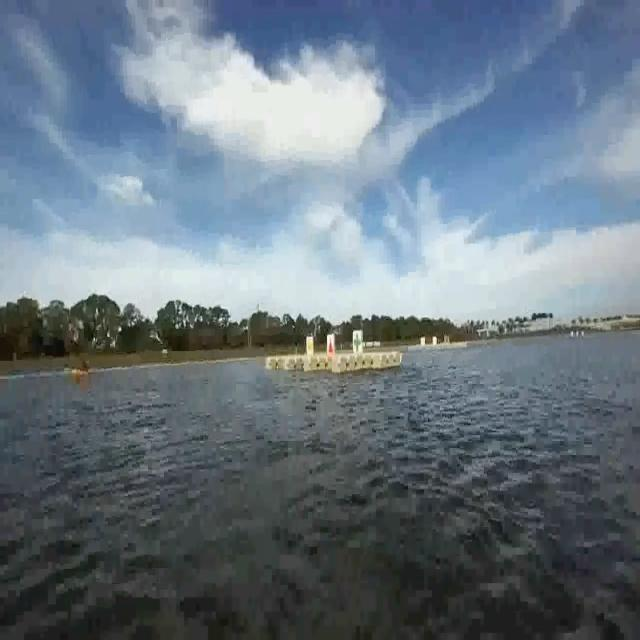blue-cross: (354, 329, 366, 356)
red-buoy: (72, 368, 86, 387)
red-dot: (326, 330, 336, 362)
yellow-duck: (305, 335, 315, 360)
